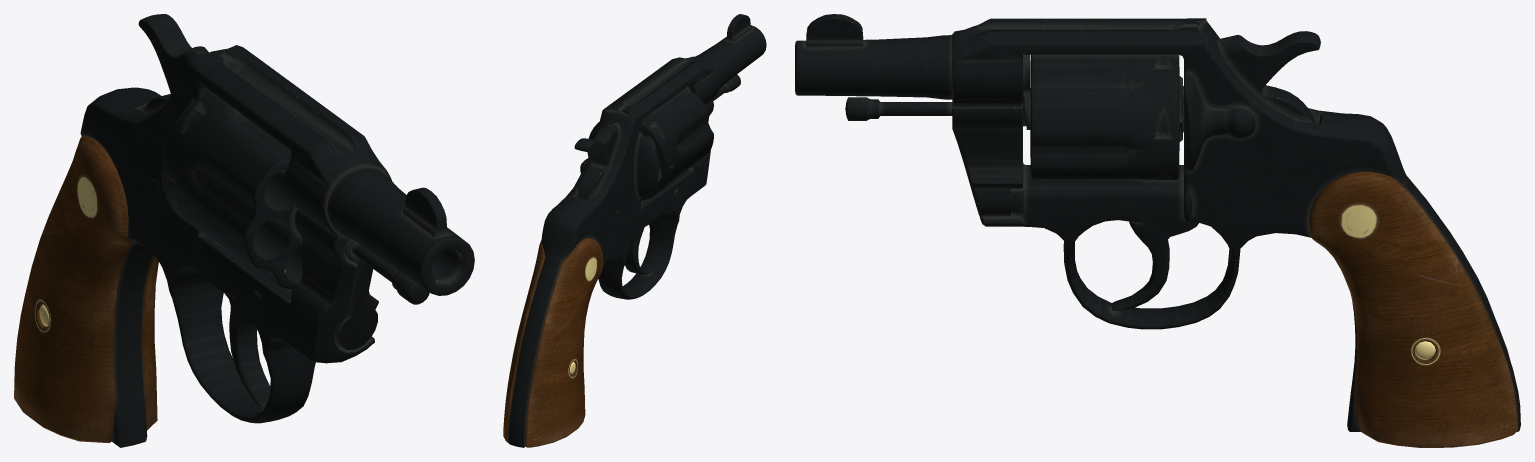
Rendered from colt.obj.
The picture shows the model from 3 angles, left to right: view 1: azimuth 30°, elevation 25°; view 2: azimuth 150°, elevation 25°; view 3: azimuth 270°, elevation 25°; orthographic projection. The views are drawn at different scales.
Parts seen in each view (by area): view 1: colt_official_police_base, colt_official_police_bolt_03, colt_official_police_hummer, colt_official_police_bolt_02, colt_official_police_bolt; view 2: colt_official_police_base, colt_official_police_bolt_03, colt_official_police_hummer, colt_official_police_bolt; view 3: colt_official_police_base, colt_official_police_bolt_03, colt_official_police_bolt_02, colt_official_police_hummer, colt_official_police_bolt.
Boxes of the visible parts, bbox=[...] form: colt_official_police_base: bbox=[14, 45, 474, 447]; colt_official_police_bolt_03: bbox=[161, 91, 302, 289]; colt_official_police_hummer: bbox=[138, 14, 208, 112]; colt_official_police_bolt_02: bbox=[336, 239, 378, 350]; colt_official_police_bolt: bbox=[352, 242, 429, 304]; colt_official_police_base: bbox=[503, 14, 766, 447]; colt_official_police_bolt_03: bbox=[587, 90, 713, 200]; colt_official_police_hummer: bbox=[574, 122, 620, 200]; colt_official_police_bolt: bbox=[713, 74, 740, 100]; colt_official_police_base: bbox=[795, 14, 1520, 447]; colt_official_police_bolt_03: bbox=[1026, 54, 1179, 179]; colt_official_police_bolt_02: bbox=[952, 104, 1022, 217]; colt_official_police_hummer: bbox=[1216, 31, 1320, 122]; colt_official_police_bolt: bbox=[845, 67, 1183, 150].
Bounding box in the file's own units: 7.89 × 25.26 × 40.41.
